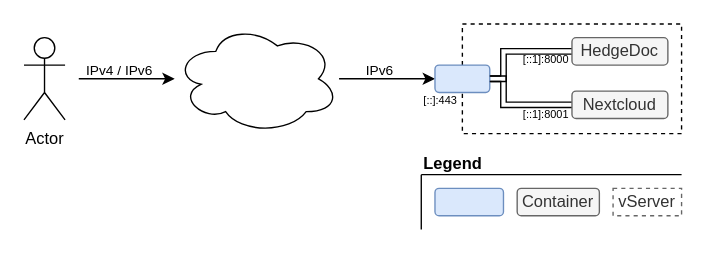
The diagram is 707 pixels wide and 255 high, and some of its shapes have lost their labels. Each missing label, with the centre of its shape:
"Cloudflare Proxy" goes at [256,78].
"nginx" goes at [462,78].
"Service" goes at [468,201].
